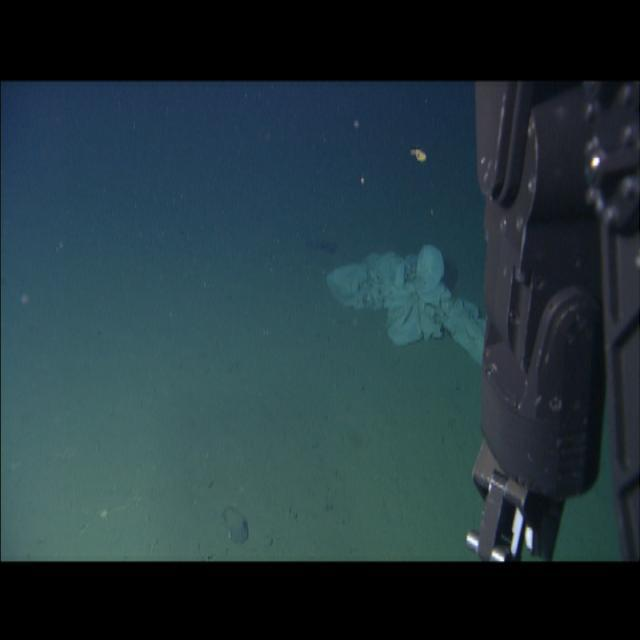Brittle Star: (74, 486, 138, 541)
Not Brittle Star: (321, 236, 487, 367)
